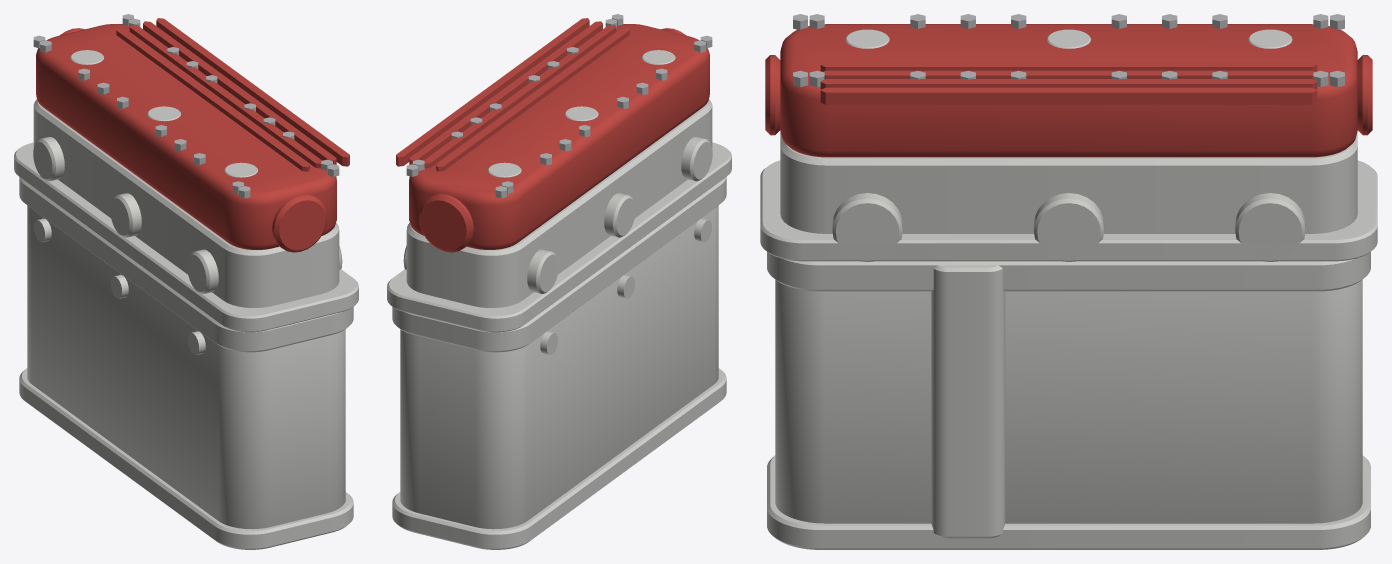
File: hot_cam.glb
3 views of the same model, side by side, from view 1: azimuth 30°, elevation 25°; view 2: azimuth 150°, elevation 25°; view 3: azimuth 270°, elevation 25° (orthographic). The views are drawn at different scales.
Parts seen in each view (by area): view 1: hot_cam; view 2: hot_cam; view 3: hot_cam.
Part boxes in pixels (box(x1,y1,x2,y2)): hot_cam: box(14, 14, 358, 549); hot_cam: box(387, 14, 731, 549); hot_cam: box(760, 14, 1377, 549).
Bounding box in the file's own units: 0.128 × 0.3043 × 0.368.
